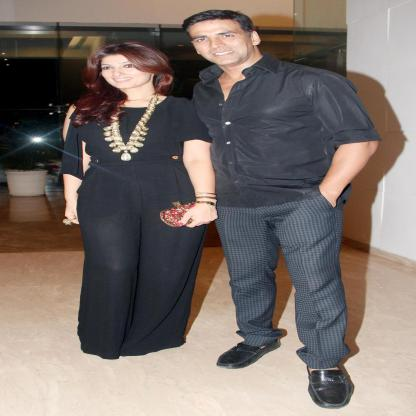face: (189, 21, 253, 66), (101, 54, 154, 90)
